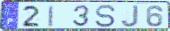2: (22, 5, 42, 28)
3: (71, 4, 91, 29)
6: (145, 5, 164, 28)
I: (47, 5, 55, 28)
J: (120, 4, 139, 28)
S: (94, 4, 117, 28)
